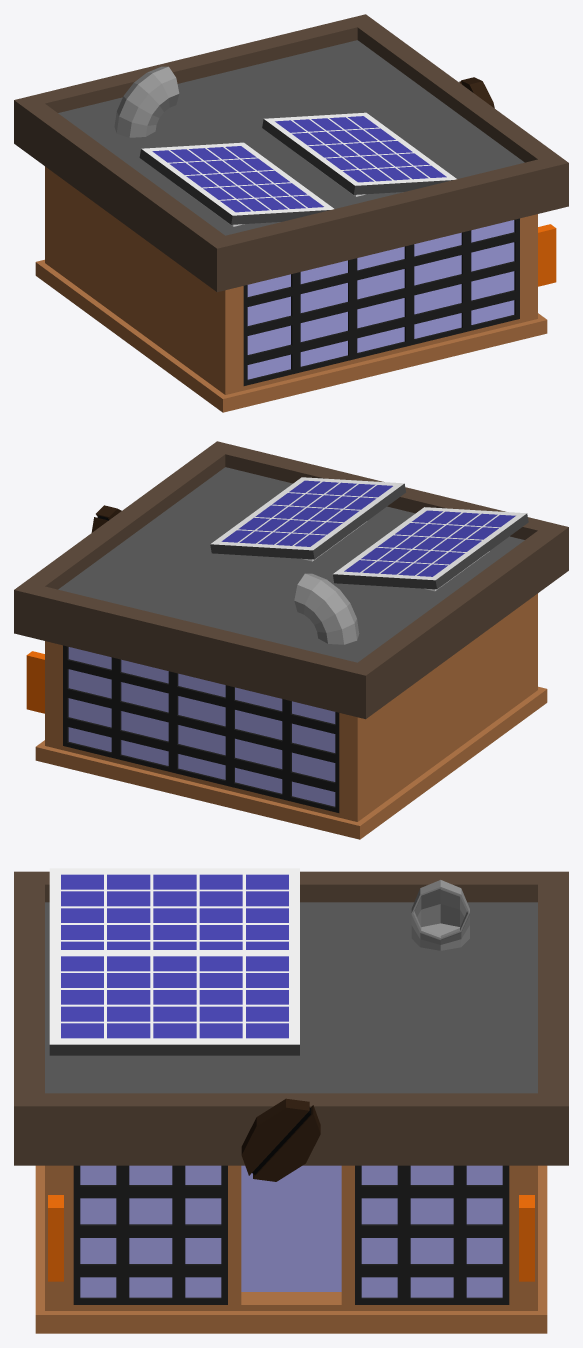
The model's file is Coffee Shop.FBX.
3 views of the same model, one above another, from view 1: azimuth 30°, elevation 25°; view 2: azimuth 150°, elevation 25°; view 3: azimuth 270°, elevation 25° (orthographic). The views are drawn at different scales.
Parts seen in each view (by area): view 1: Coffee shop; view 2: Coffee shop; view 3: Coffee shop.
Part boxes in pixels (box(x1,y1,x2,y2)): Coffee shop: box(14, 14, 568, 412); Coffee shop: box(14, 441, 568, 839); Coffee shop: box(14, 868, 568, 1333).
Bounding box in the file's own units: 368 × 207 × 354.
Materials: 1 (1 with a texture image).
